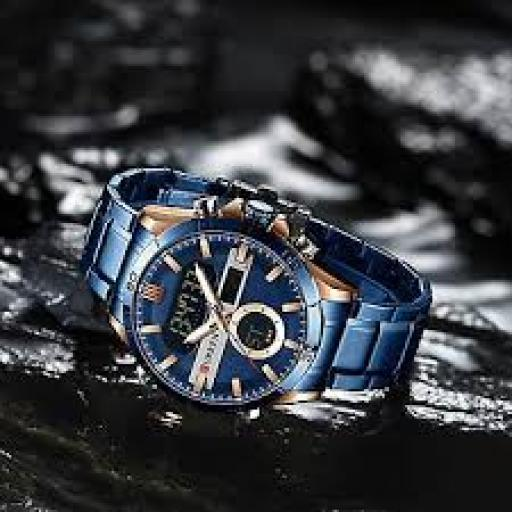KolSaati: (64, 120, 445, 474)
